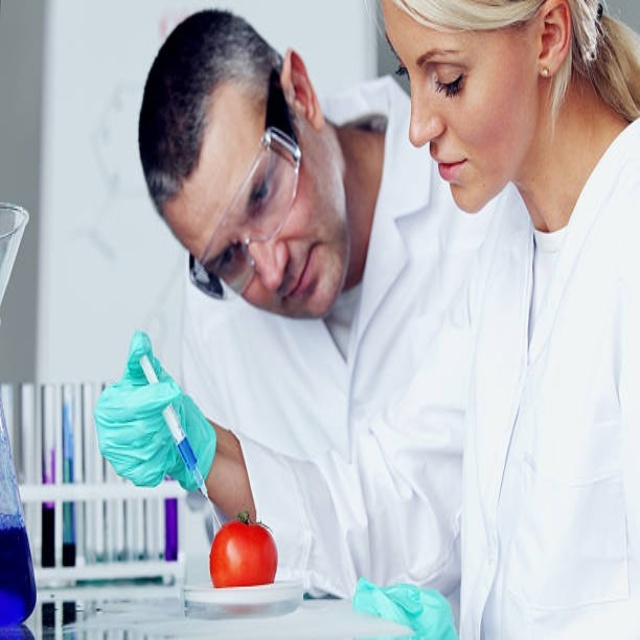Gafas: (190, 98, 302, 298)
Guantes: (93, 329, 217, 493), (353, 577, 460, 640)
Sin_gafas: (381, 13, 484, 105)
Sin_mascara: (276, 227, 328, 325), (428, 140, 484, 210)
